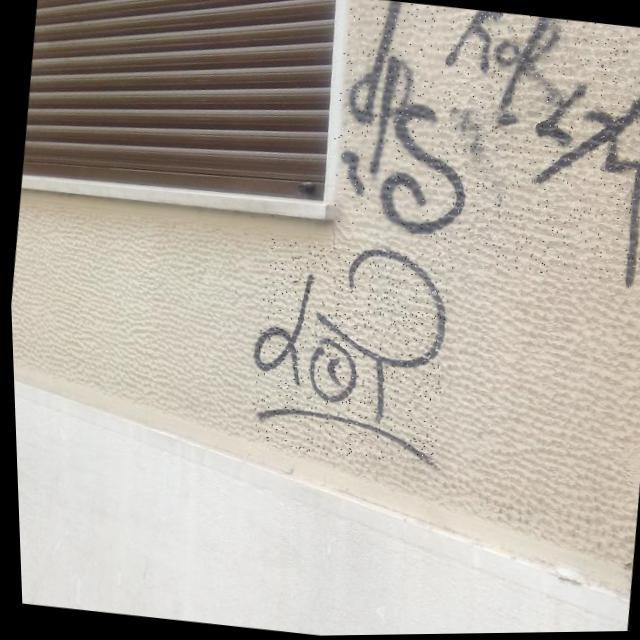-: (415, 6, 640, 294), (240, 236, 456, 470), (318, 0, 489, 241)
